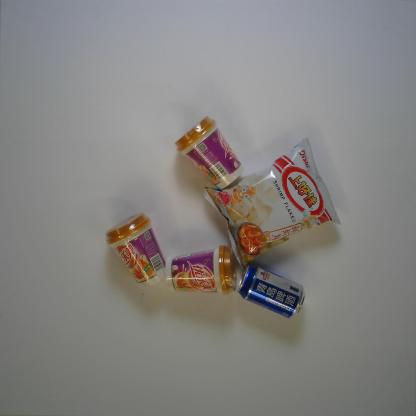Alcohol: (236, 264, 306, 320)
Instant Drink: (174, 115, 245, 191), (105, 211, 166, 290), (164, 244, 238, 296)
Puffed Food: (202, 136, 342, 271)
